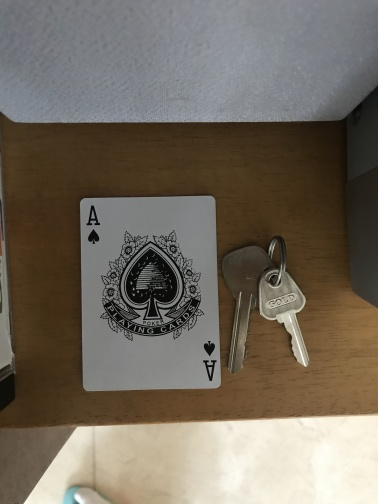ace: (78, 194, 222, 393)
